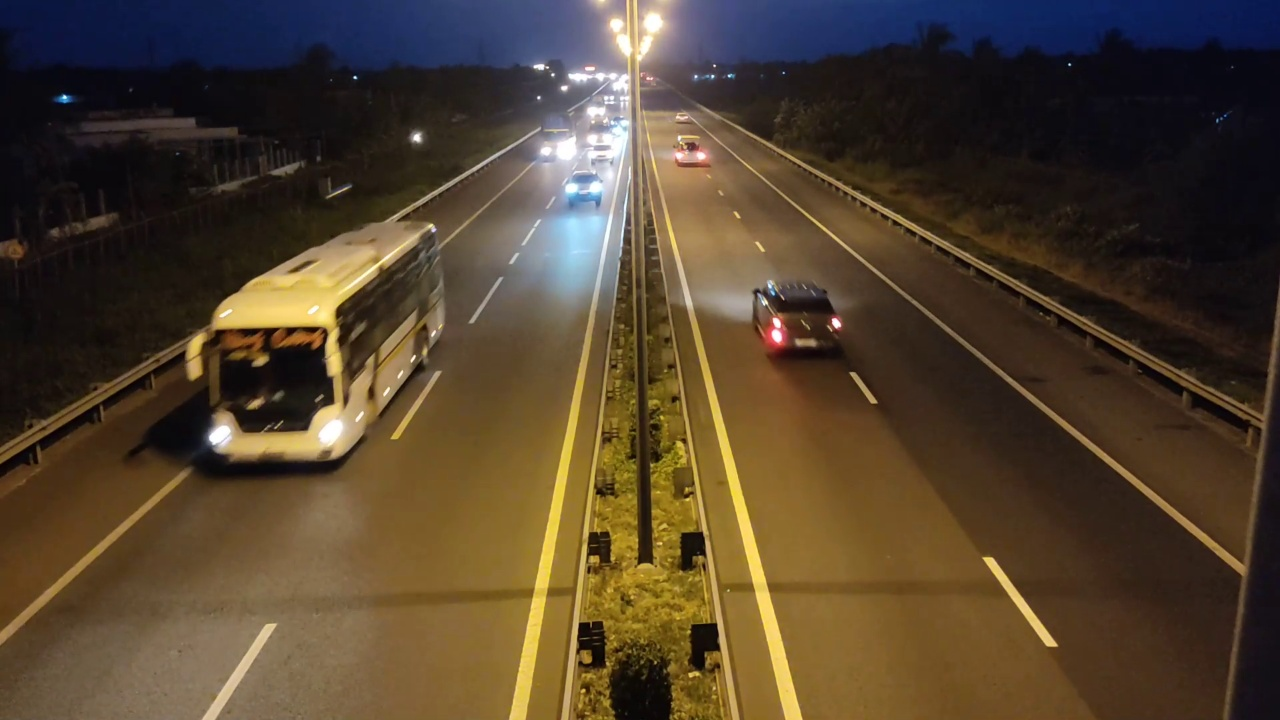bus: (192, 219, 446, 469)
car: (751, 278, 844, 358), (563, 171, 604, 208), (673, 137, 711, 167)
